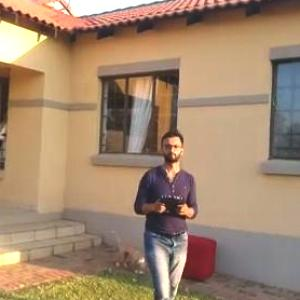follow: (126, 124, 202, 299)
null: (106, 225, 147, 275)
